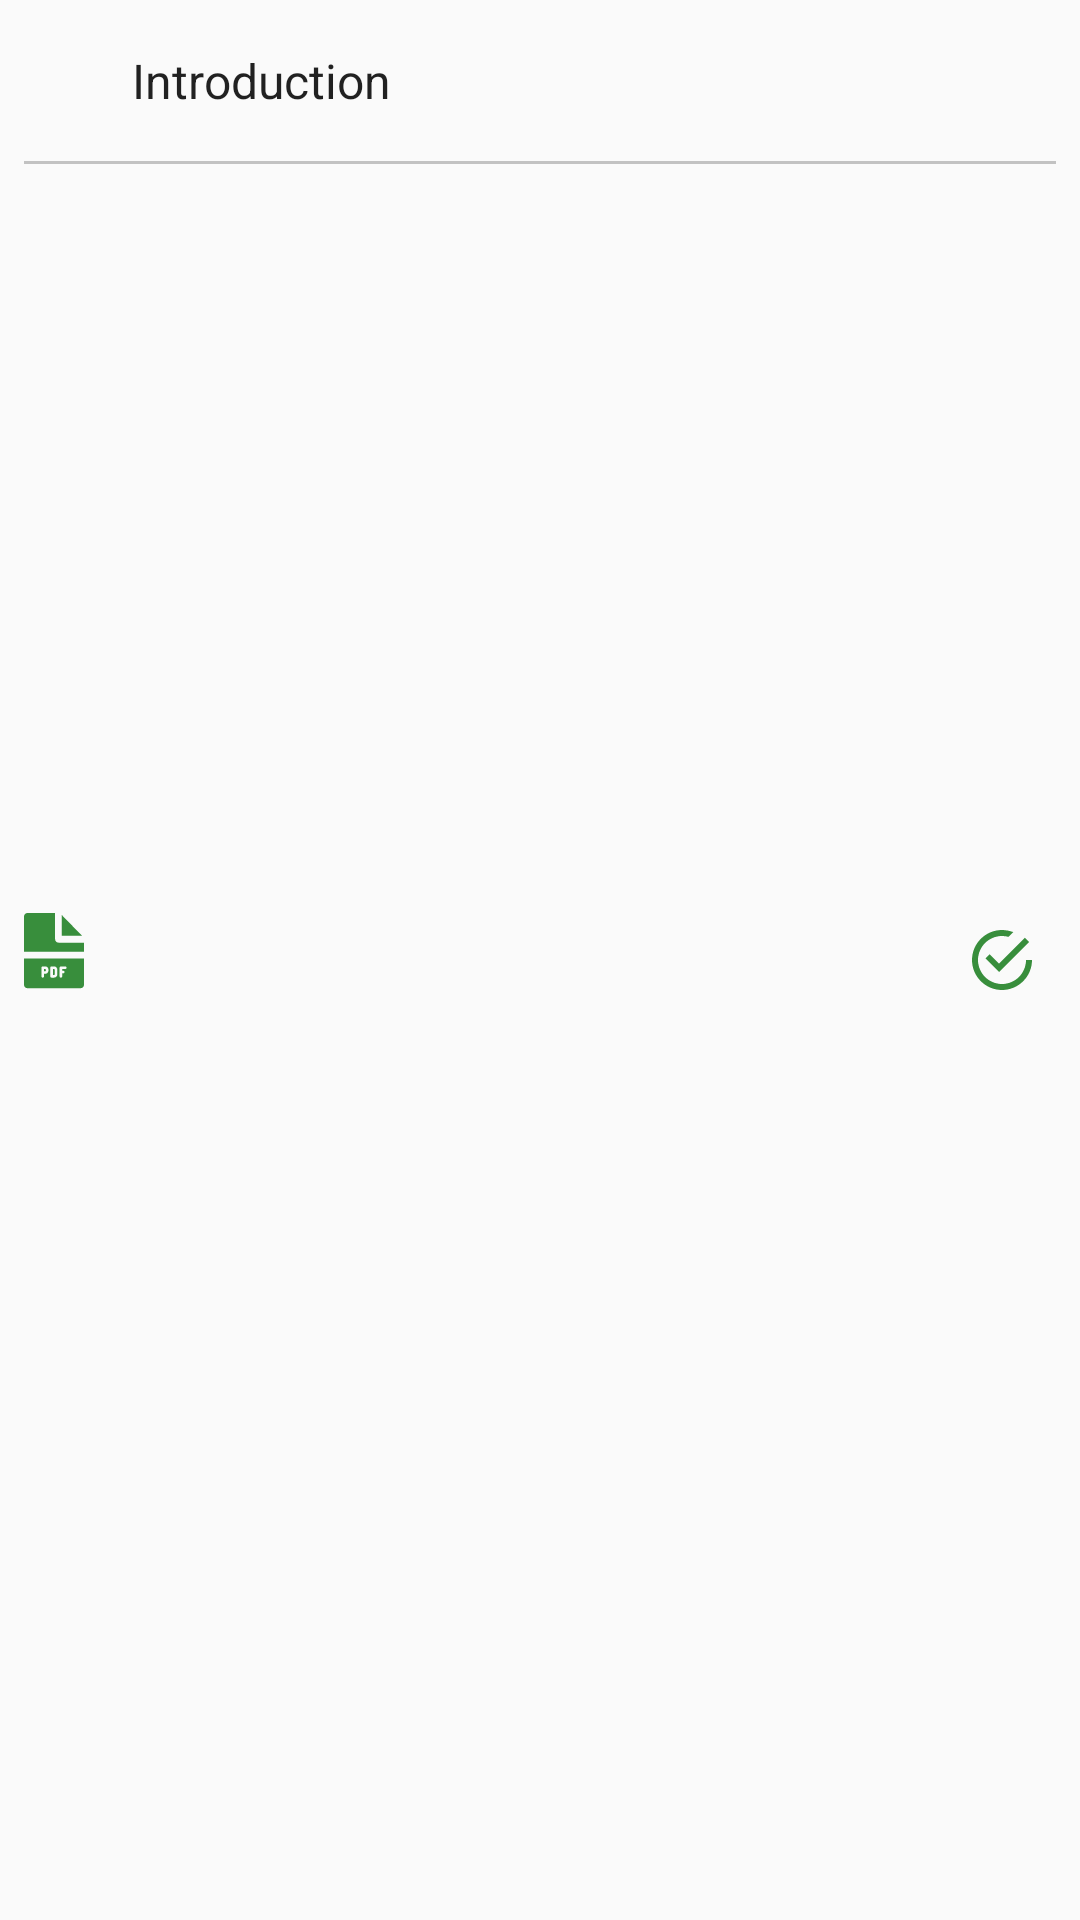

Where icons sit on this 1080px×1920px app screen, as BBox(x1, y1, x2, y2):
checked: BBox(972, 930, 1032, 990)
file: BBox(24, 913, 84, 989)
